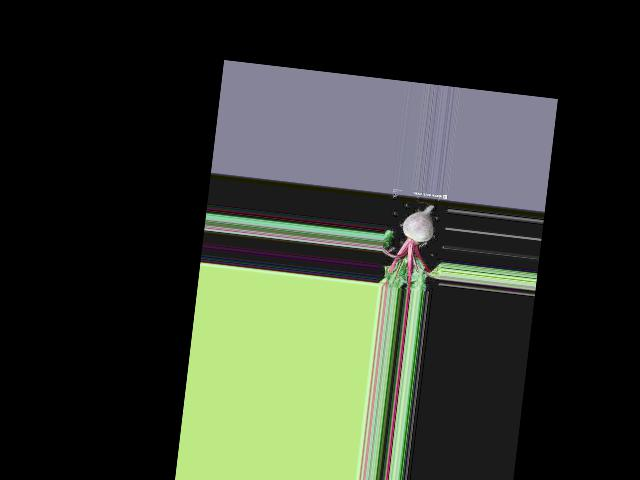beet: (377, 200, 448, 293)
